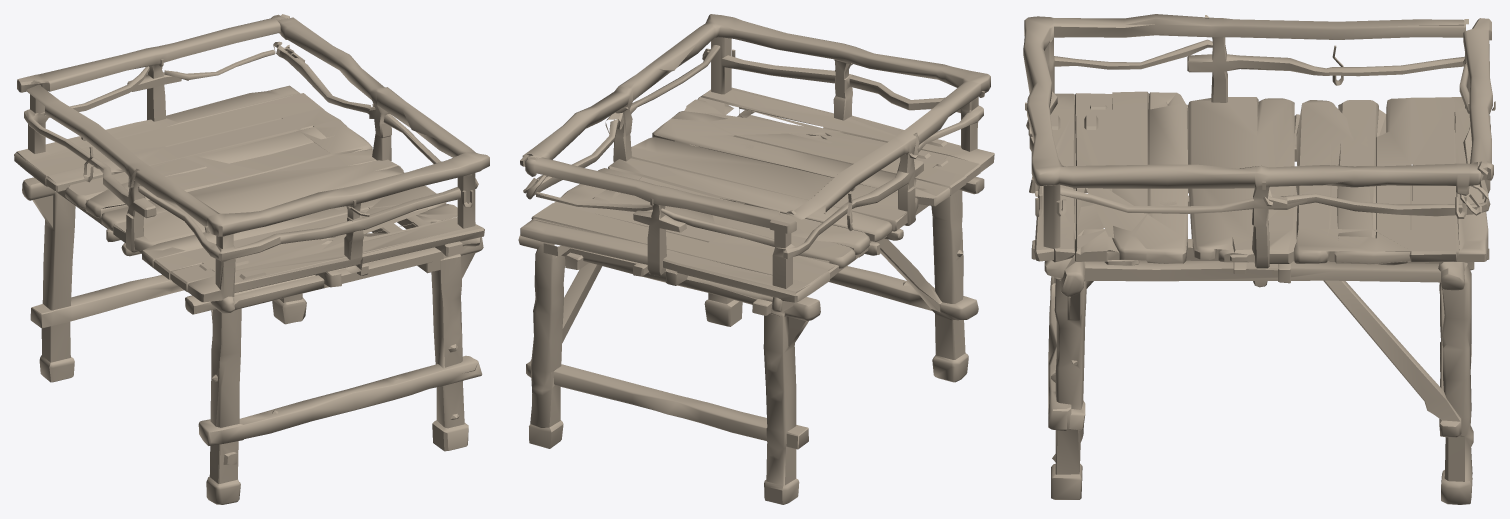
The model's file is kit_gallery.glb.
3 views of the same model, side by side, from view 1: azimuth 30°, elevation 25°; view 2: azimuth 150°, elevation 25°; view 3: azimuth 270°, elevation 25° (orthographic). The views are drawn at different scales.
Visible parts, largest first — view 1: gallery; view 2: gallery; view 3: gallery.
Part boxes in pixels (bbox=[...]): gallery: bbox=[14, 14, 489, 504]; gallery: bbox=[518, 14, 994, 504]; gallery: bbox=[1023, 14, 1495, 504].
Size of the model in its own units: 2.49 by 2.38 by 3.
